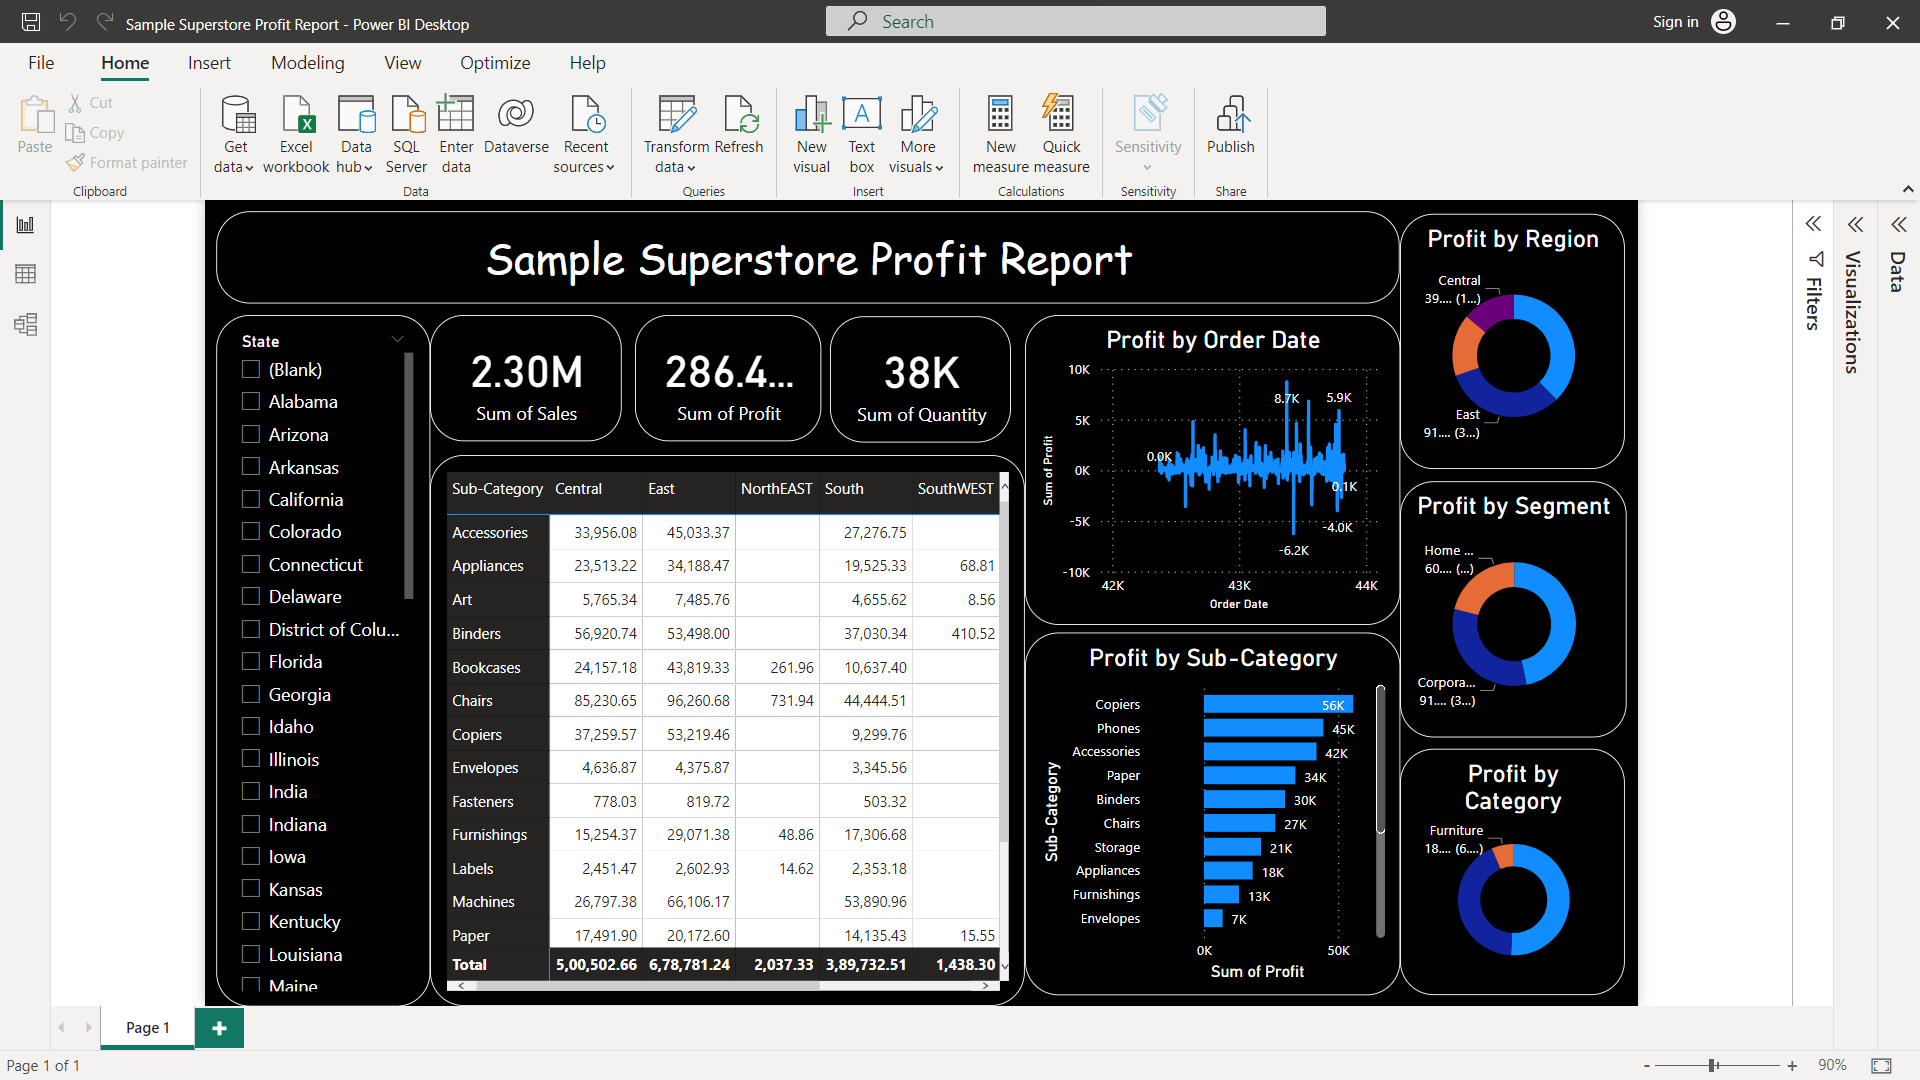

This screenshot's page, from the dashboard's own definition file:
{"tool":"powerbi","page":{"name":"Page 1","canvas":[1280,720],"ordinal":0},"visuals":[{"type":"textbox","box":[10,10,1057.1,82.6],"z":0},{"type":"donutChart","title":"Profit by Category","fields":{"Category":["Orders.Category"],"Y":["Sum(Orders.Profit)"]},"box":[1067.2,490,200.9,219.9],"z":1000},{"type":"donutChart","title":"Profit by Segment","fields":{"Y":["Sum(Orders.Profit)"],"Category":["Orders.Segment"]},"box":[1067.2,251.2,202,228.8],"z":2000},{"type":"donutChart","title":"Profit by Region","fields":{"Y":["Sum(Orders.Profit)"],"Category":["Orders.Region"]},"box":[1067.2,12.3,200.9,227.7],"z":3000},{"type":"barChart","title":"Profit by Sub-Category","fields":{"Category":["Orders.Sub-Category"],"Y":["Sum(Orders.Profit)"]},"box":[732.3,386.2,334.9,323.7],"z":4000},{"type":"lineChart","title":"Profit by Order Date","fields":{"Category":["Orders.Order Date"],"Y":["Sum(Orders.Profit)"]},"box":[732.3,102.7,334.9,276.8],"z":5000},{"type":"slicer","fields":{"Values":["Orders.State"]},"box":[10,102.7,190.9,617.3],"z":6000},{"type":"pivotTable","fields":{"Rows":["Orders.Sub-Category"],"Columns":["Orders.Region"],"Values":["Sum(Orders.Sales)"]},"box":[201.2,227.9,531.4,491.9],"z":6001},{"type":"card","fields":{"Values":["Sum(Orders.Sales)"]},"box":[201.2,102.3,170.9,112.8],"z":6002},{"type":"card","fields":{"Values":["Sum(Orders.Profit)"]},"box":[383.7,102.3,166.3,112.8],"z":6003},{"type":"card","fields":{"Values":["Sum(Orders.Quantity)"]},"box":[558.1,103.5,161.6,112.8],"z":6004}]}

Visuals, with their boxes on the page's 1280x720 design canvas (x1, y1, x2, y2). These are canvas units, not pixel positions in the 1920x1080 screenshot, which may show the page scaled, cropped or inside an application window:
textbox: box=[10, 10, 1067, 93]
"Profit by Category" donutChart: box=[1067, 490, 1268, 710]
"Profit by Segment" donutChart: box=[1067, 251, 1269, 480]
"Profit by Region" donutChart: box=[1067, 12, 1268, 240]
"Profit by Sub-Category" barChart: box=[732, 386, 1067, 710]
"Profit by Order Date" lineChart: box=[732, 103, 1067, 380]
slicer - Orders.State: box=[10, 103, 201, 720]
pivotTable - Orders.Sub-Category x Orders.Region: box=[201, 228, 733, 720]
card - Sum(Orders.Sales): box=[201, 102, 372, 215]
card - Sum(Orders.Profit): box=[384, 102, 550, 215]
card - Sum(Orders.Quantity): box=[558, 104, 720, 216]
